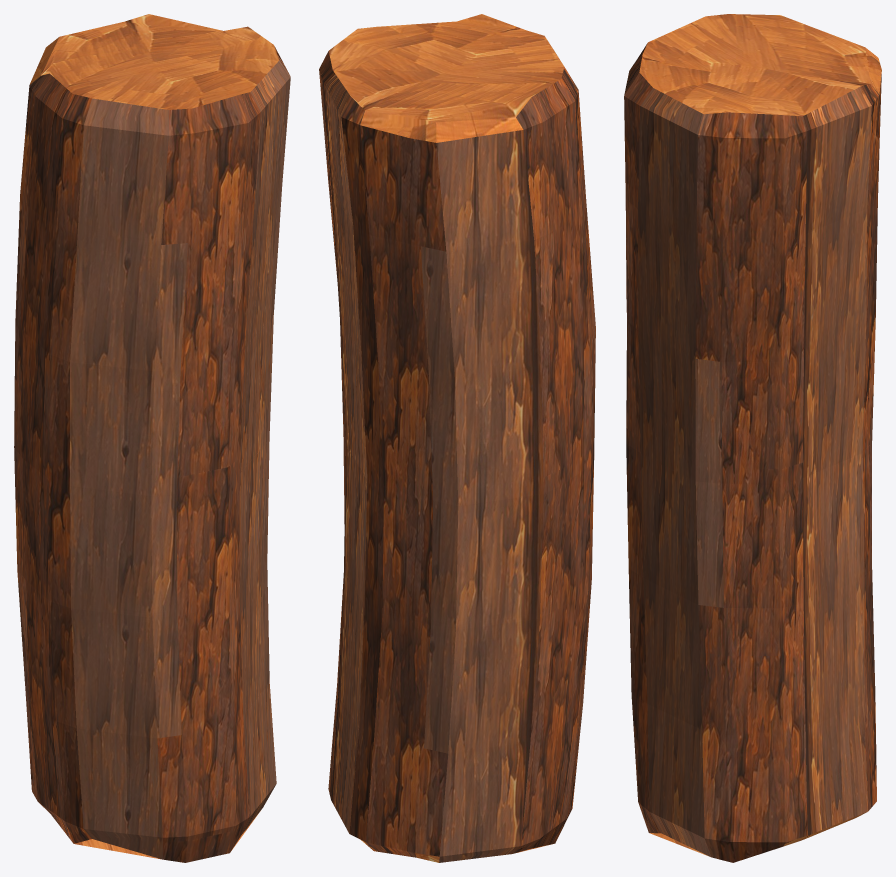
File: foundation_leg__plank_root.glb
The picture shows the model from 3 angles, left to right: view 1: azimuth 30°, elevation 25°; view 2: azimuth 150°, elevation 25°; view 3: azimuth 270°, elevation 25°; orthographic projection.
Visible parts, largest first — view 1: model; view 2: model; view 3: model.
Part boxes in pixels (x1,y1,x2,y2): model: (14, 14, 290, 862); model: (319, 14, 595, 862); model: (624, 14, 881, 862).
Size of the model in its own units: 0.3336 by 1.02 by 0.3131.
Materials: 3 (3 with a texture image).
